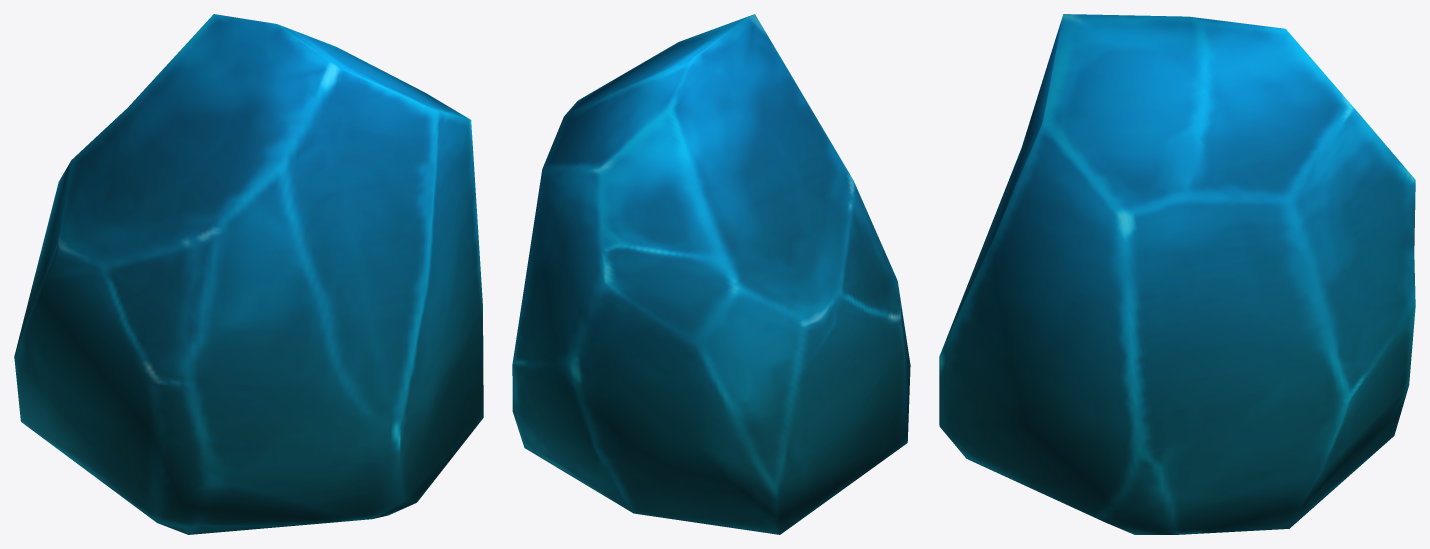
Rendered from tree_gem3.fbx.
The picture shows the model from 3 angles, left to right: view 1: azimuth 30°, elevation 25°; view 2: azimuth 150°, elevation 25°; view 3: azimuth 270°, elevation 25°; orthographic projection. The views are drawn at different scales.
Parts seen in each view (by area): view 1: gem006.003; view 2: gem006.003; view 3: gem006.003.
Part boxes in pixels (<box>): gem006.003: <box>14,14,483,534</box>; gem006.003: <box>512,14,910,534</box>; gem006.003: <box>939,14,1415,534</box>.
Size of the model in its own units: 227 by 255 by 248.
